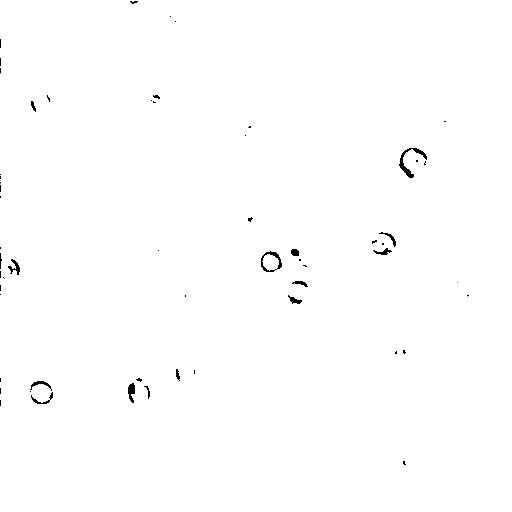micro-algae: (112, 9, 158, 56), (102, 374, 143, 413), (69, 178, 104, 222), (1, 247, 31, 293), (232, 203, 271, 238), (314, 192, 350, 229), (277, 234, 315, 268), (445, 9, 487, 36), (400, 144, 431, 179), (460, 163, 490, 199), (28, 87, 55, 122), (290, 44, 317, 77), (237, 116, 265, 147), (384, 165, 413, 194), (169, 280, 199, 307), (370, 231, 398, 258), (127, 377, 152, 407), (318, 24, 349, 48), (286, 278, 313, 305), (29, 379, 55, 407), (433, 101, 460, 127), (452, 273, 477, 301), (166, 0, 192, 25), (375, 5, 396, 35), (174, 359, 198, 385), (259, 250, 284, 274), (1, 377, 23, 404), (385, 447, 408, 470), (1, 256, 21, 281), (0, 39, 16, 68), (391, 347, 410, 371), (149, 236, 169, 256), (298, 251, 319, 268), (124, 0, 141, 5)
